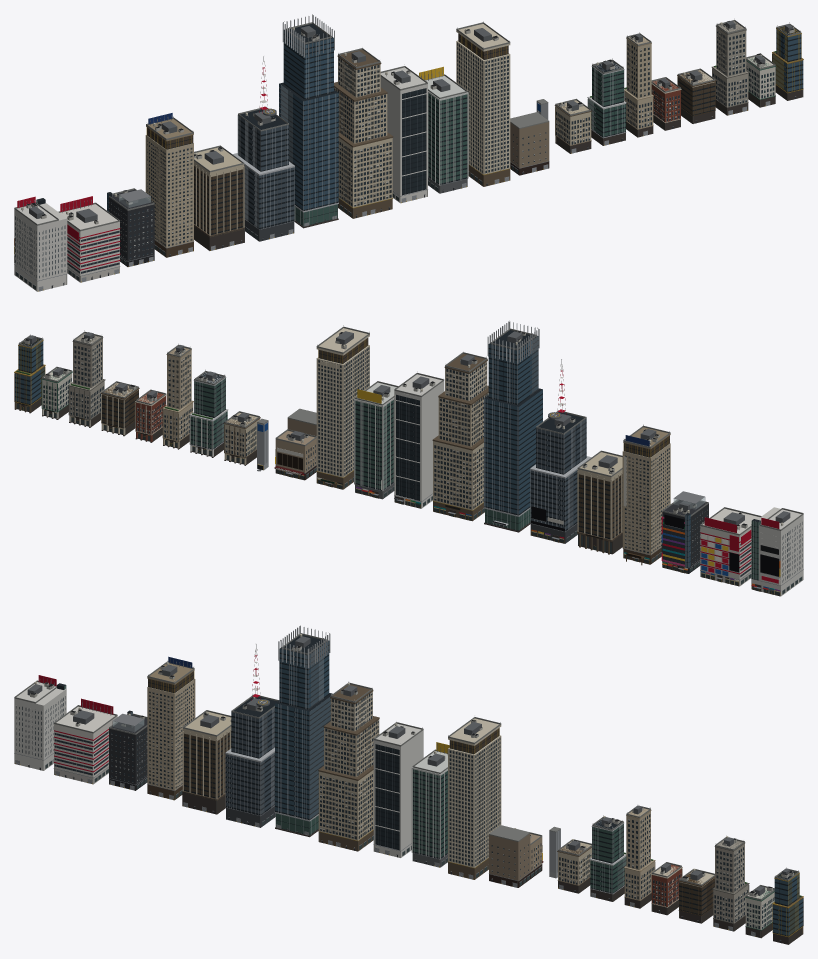
File: kitafront.glb
3 renders of one model, top to bottom at view 1: azimuth 30°, elevation 25°; view 2: azimuth 150°, elevation 25°; view 3: azimuth 330°, elevation 25°, orthographic.
Visible parts, largest first — view 1: kitafront_office_a_body, kitafront_office_b_body, kitafront_termhotel_body, kitafront_shinbun_body, kitafront_hotel_body, kitafront_office_c_body, kitafront_bank_body, kitafront_office_d_body, kitafront_vision_body, kitafront_denki_body, kitafront_suji_f_body, kitafront_amuse_body (+8 smaller); view 2: kitafront_office_a_body, kitafront_office_b_body, kitafront_termhotel_body, kitafront_shinbun_body, kitafront_hotel_body, kitafront_office_c_body, kitafront_office_d_body, kitafront_bank_body, kitafront_vision_body, kitafront_denki_body, kitafront_suji_f_body, kitafront_amuse_body (+11 smaller); view 3: kitafront_office_a_body, kitafront_office_b_body, kitafront_termhotel_body, kitafront_shinbun_body, kitafront_hotel_body, kitafront_office_c_body, kitafront_bank_body, kitafront_office_d_body, kitafront_denki_body, kitafront_vision_body, kitafront_suji_f_body, kitafront_kaikan_body (+8 smaller).
Part boxes in pixels (left/top/right/bottom): kitafront_office_a_body: left=279, top=14, right=338, bottom=228; kitafront_office_b_body: left=334, top=46, right=393, bottom=218; kitafront_termhotel_body: left=456, top=21, right=510, bottom=186; kitafront_shinbun_body: left=232, top=56, right=294, bottom=241; kitafront_hotel_body: left=145, top=113, right=193, bottom=257; kitafront_office_c_body: left=380, top=64, right=427, bottom=203; kitafront_bank_body: left=194, top=145, right=244, bottom=250; kitafront_office_d_body: left=419, top=66, right=468, bottom=193; kitafront_vision_body: left=14, top=196, right=67, bottom=291; kitafront_denki_body: left=58, top=196, right=120, bottom=282; kitafront_suji_f_body: left=711, top=18, right=748, bottom=115; kitafront_amuse_body: left=107, top=188, right=154, bottom=266; kitafront_office_a_body: left=483, top=320, right=542, bottom=532; kitafront_office_b_body: left=432, top=351, right=488, bottom=521; kitafront_termhotel_body: left=316, top=325, right=369, bottom=489; kitafront_shinbun_body: left=530, top=359, right=591, bottom=543; kitafront_hotel_body: left=622, top=424, right=670, bottom=565; kitafront_office_c_body: left=394, top=371, right=444, bottom=508; kitafront_office_d_body: left=354, top=381, right=398, bottom=499; kitafront_bank_body: left=577, top=450, right=622, bottom=554; kitafront_vision_body: left=751, top=507, right=803, bottom=596; kitafront_denki_body: left=700, top=507, right=761, bottom=586; kitafront_suji_f_body: left=68, top=330, right=105, bottom=427; kitafront_amuse_body: left=662, top=491, right=708, bottom=573; kitafront_office_a_body: left=274, top=625, right=332, bottom=837; kitafront_office_b_body: left=318, top=681, right=379, bottom=851; kitafront_termhotel_body: left=447, top=717, right=501, bottom=879; kitafront_shinbun_body: left=225, top=643, right=278, bottom=827; kitafront_hotel_body: left=147, top=656, right=195, bottom=800; kitafront_office_c_body: left=373, top=720, right=423, bottom=857; kitafront_bank_body: left=182, top=710, right=231, bottom=814; kitafront_office_d_body: left=411, top=742, right=449, bottom=867; kitafront_denki_body: left=53, top=698, right=117, bottom=784; kitafront_vision_body: left=14, top=675, right=66, bottom=770; kitafront_suji_f_body: left=712, top=835, right=749, bottom=931; kitafront_kaikan_body: left=489, top=825, right=543, bottom=887.
Bounding box in the file's own units: 662 × 155 × 45.3.
